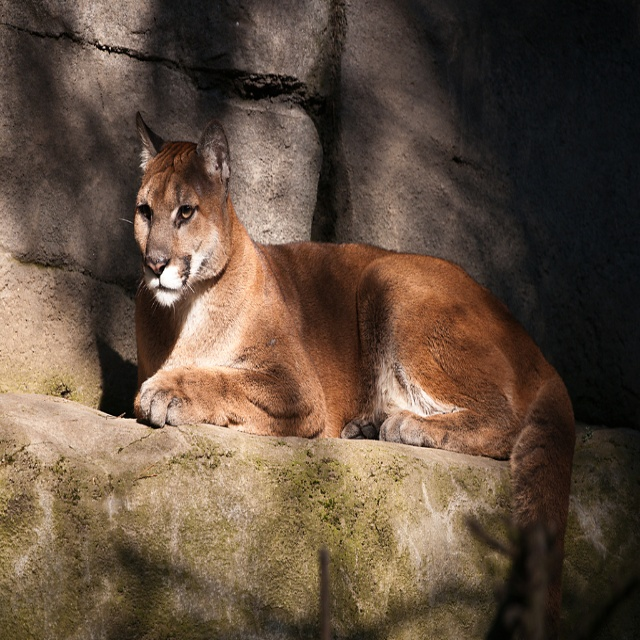Lion: (119, 111, 576, 640)
